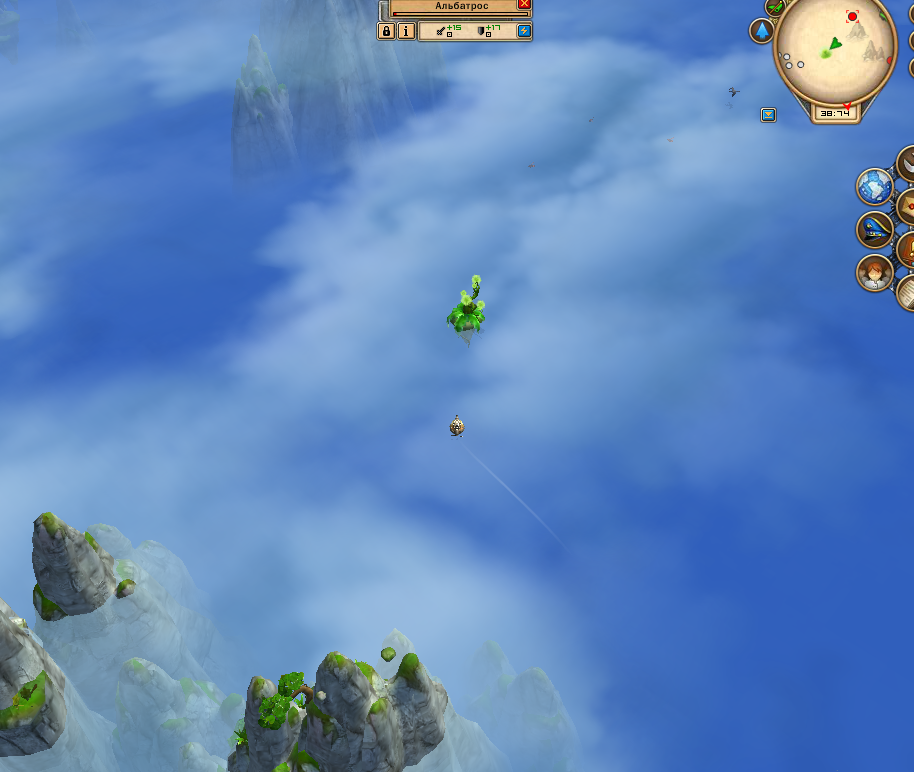dandelion-full: (443, 271, 490, 336)
